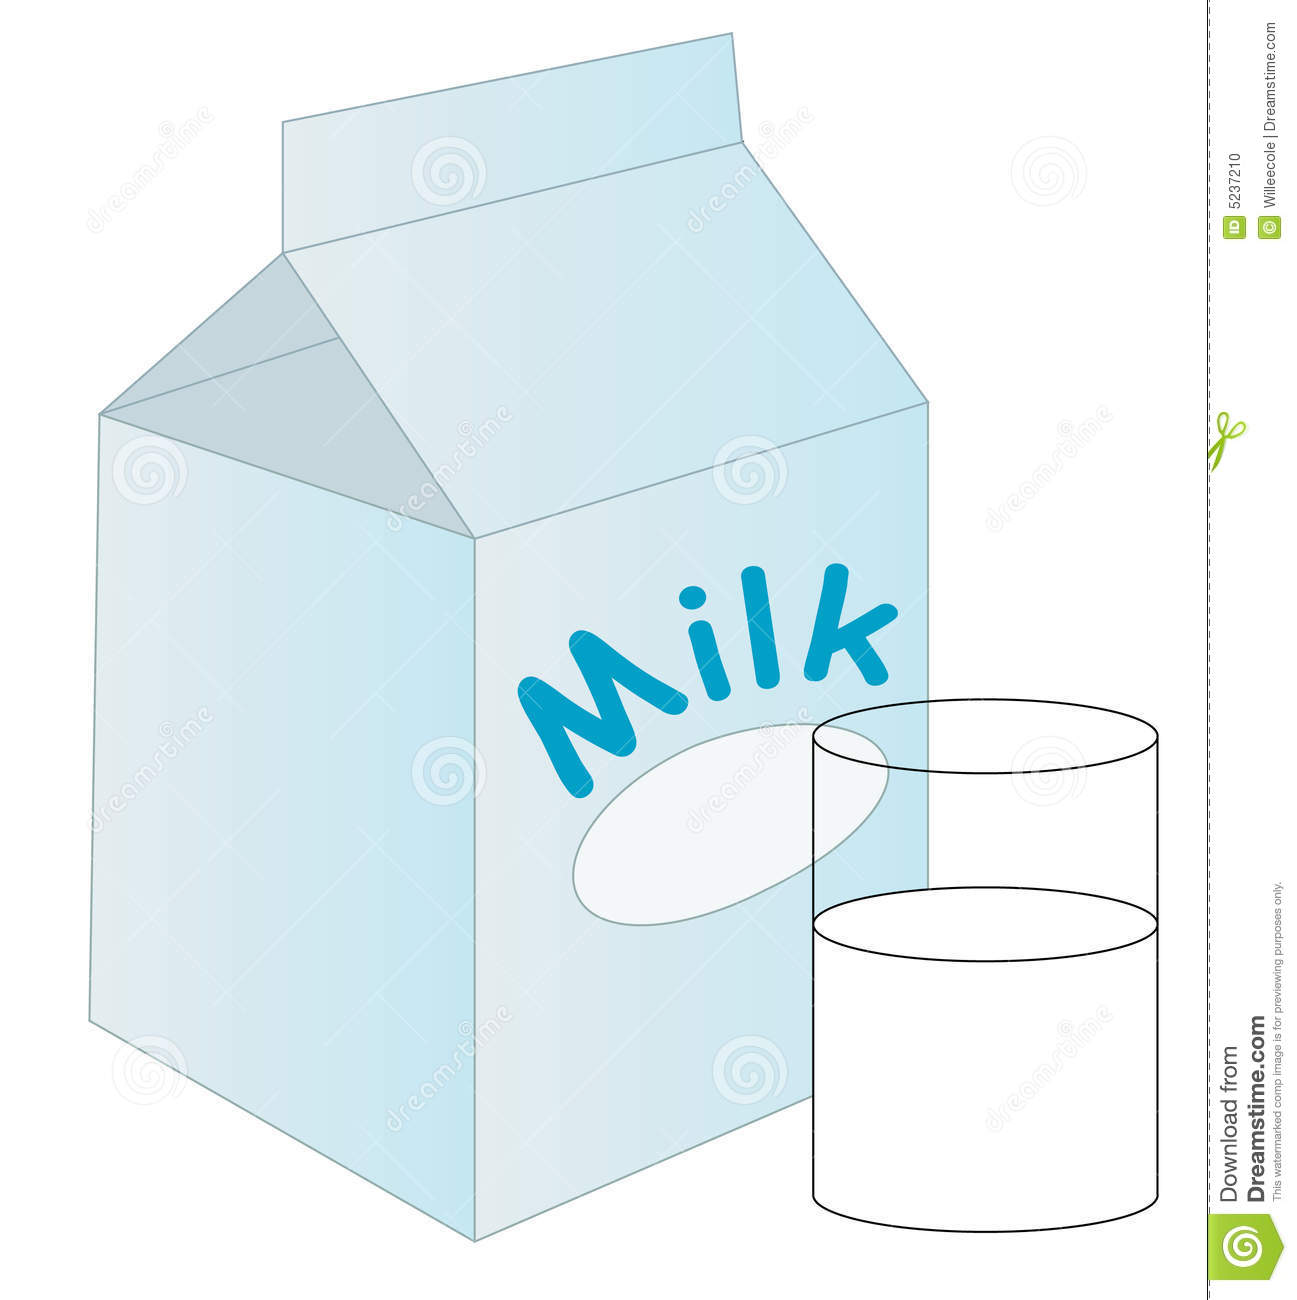glass of milk: (831, 690, 1149, 1230)
